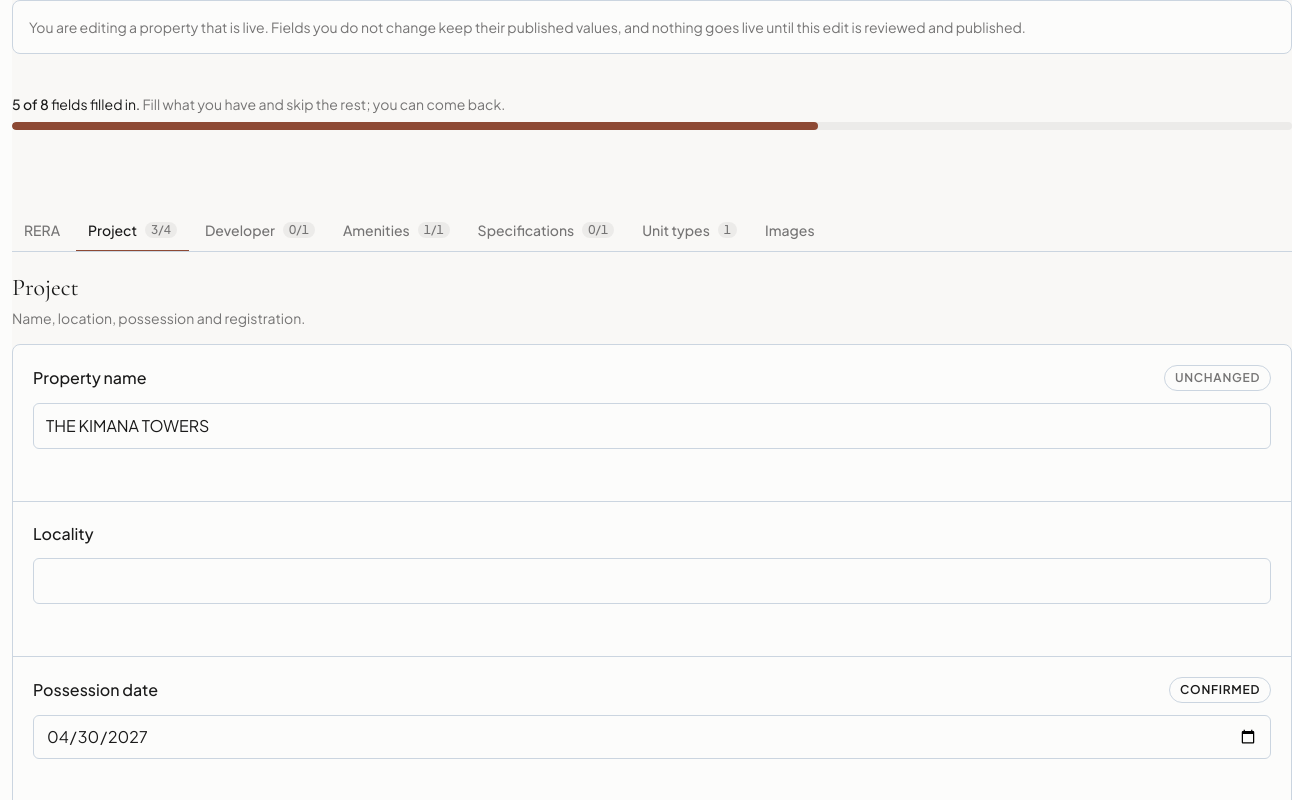
Scenario: the tabs of the edit screen › switches tab and shows that tab's content
Click the tab "Unit types 1" at (690, 231), box [630, 210, 749, 252]
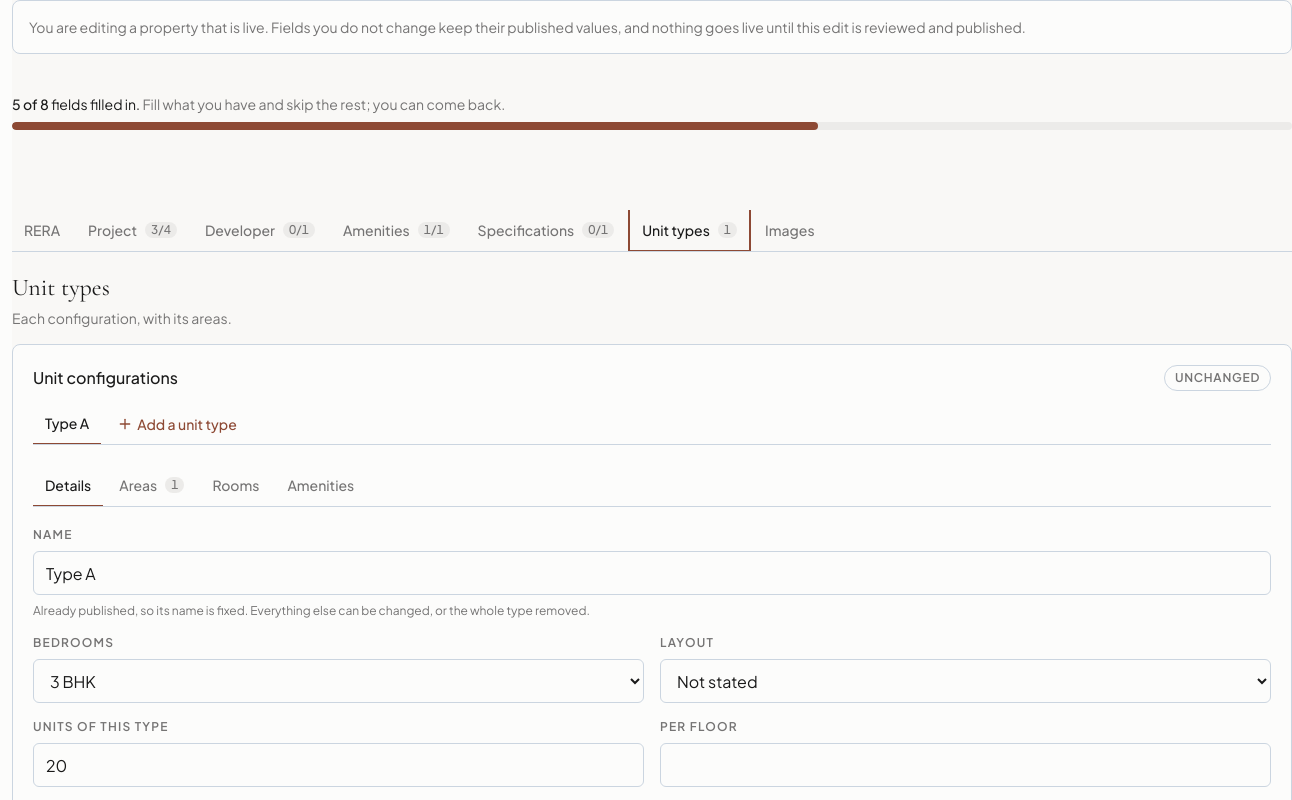
Check: the text "Unit configurations" is shown, box [33, 366, 178, 390]
Check: the text "Property name" is gone
